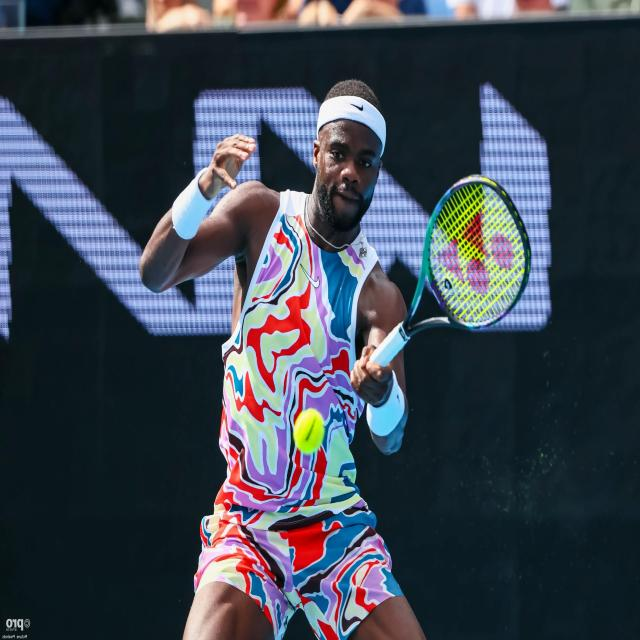nike: (296, 261, 326, 291), (345, 100, 367, 115)
